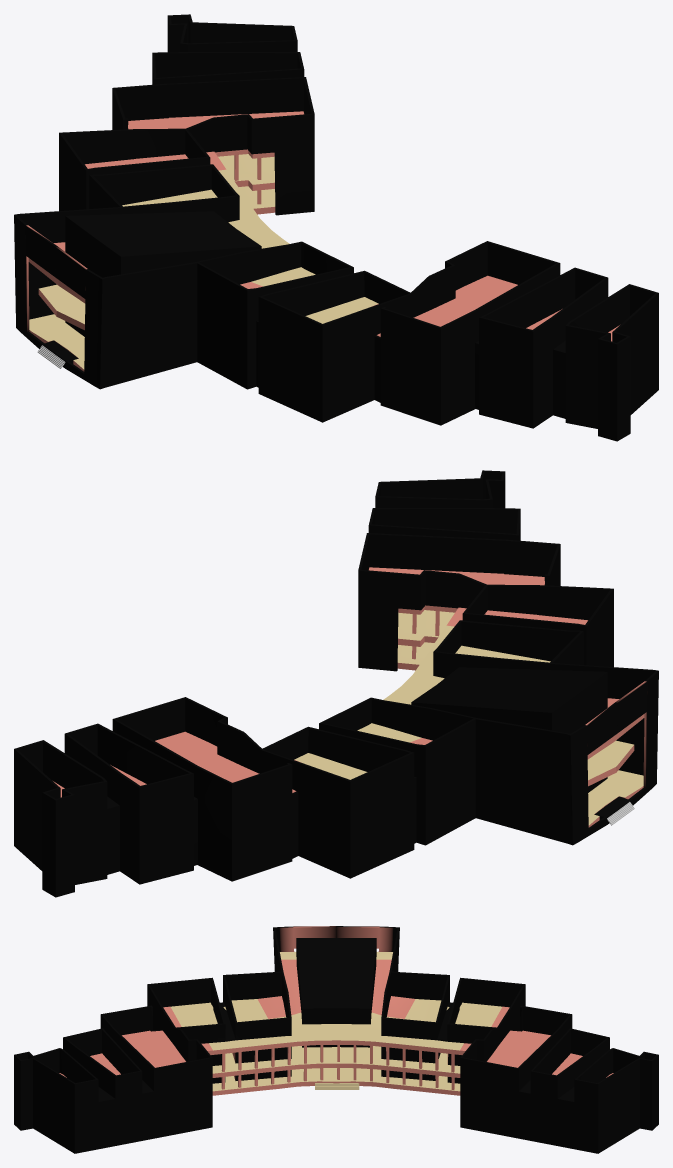
The model's file is LHTC1.fbx.
3 renders of one model, top to bottom at view 1: azimuth 30°, elevation 25°; view 2: azimuth 150°, elevation 25°; view 3: azimuth 270°, elevation 25°, orthographic. The views are drawn at different scales.
Parts seen in each view (by area): view 1: main build, levels; view 2: main build, levels; view 3: main build, levels, Cube.001.
Boxes of the visible parts, x1,y1,x2,y2 form: main build: (14,14,658,441); levels: (28,111,619,371); main build: (14,470,658,897); levels: (53,567,644,827); main build: (14,926,658,1153); levels: (59,952,613,1095); Cube.001: (221,1045,454,1089).
Bounding box in the file's own units: 13604 × 3503 × 24797.
